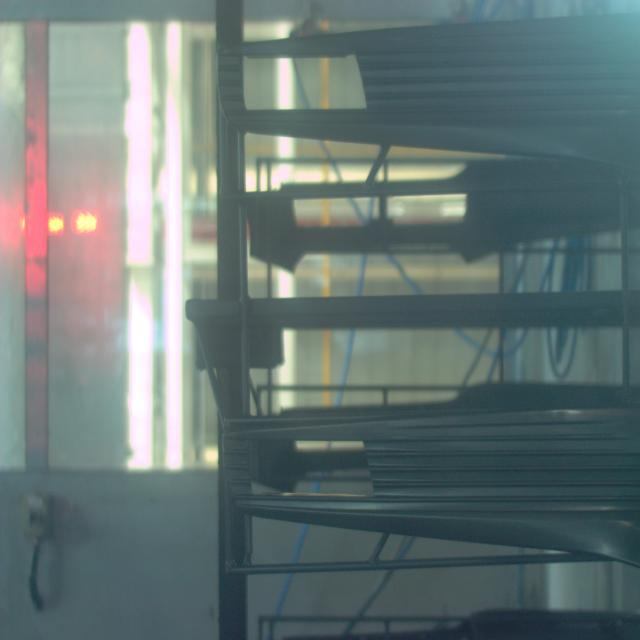Non_primered: (219, 394, 640, 578), (215, 8, 640, 182)
